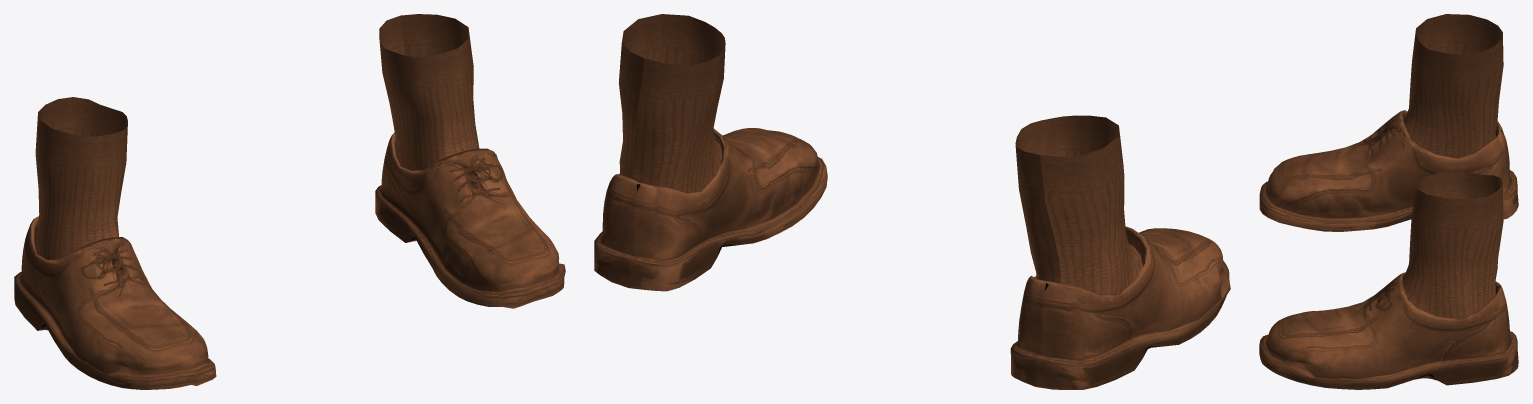
File: clothing_shoes.glb
The picture shows the model from 3 angles, left to right: view 1: azimuth 30°, elevation 25°; view 2: azimuth 150°, elevation 25°; view 3: azimuth 270°, elevation 25°; orthographic projection. The views are drawn at different scales.
Parts seen in each view (by area): view 1: Cloth_shoes; view 2: Cloth_shoes; view 3: Cloth_shoes.
Boxes of the visible parts, bbox=[...] form: Cloth_shoes: bbox=[14, 14, 565, 389]; Cloth_shoes: bbox=[594, 14, 1230, 389]; Cloth_shoes: bbox=[1259, 14, 1518, 389].
Size of the model in its own units: 0.5126 by 0.2203 by 0.2745.
1 material, 1 textured.
